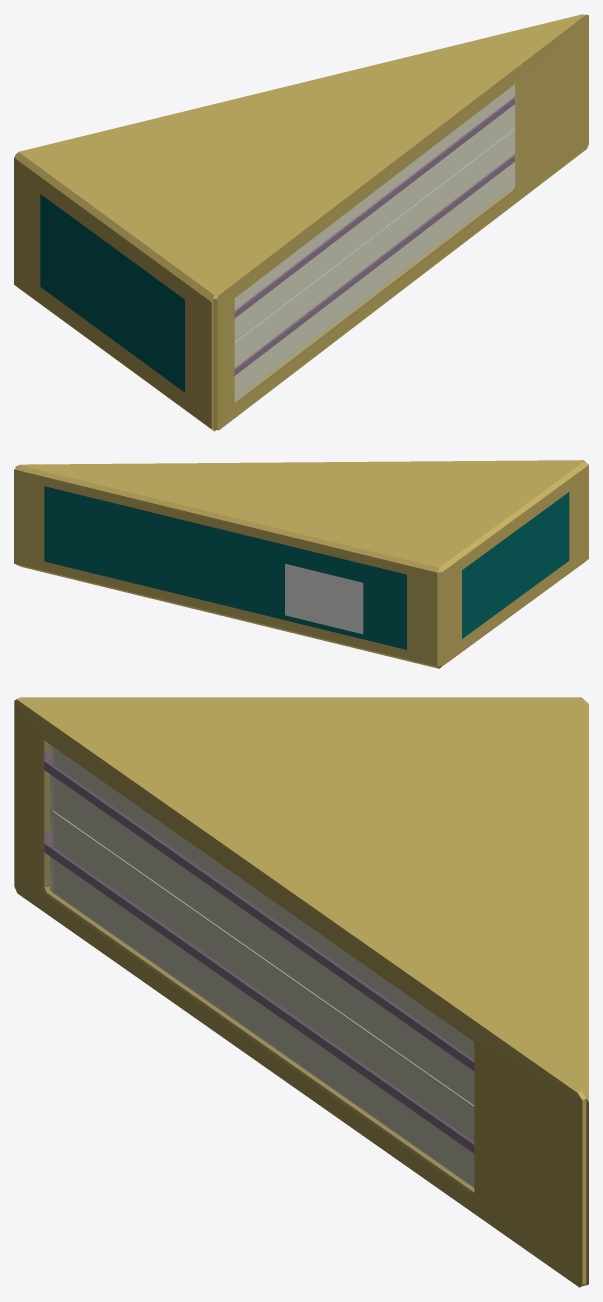
File: Sandwich Boxed Closed.fbx
3 renders of one model, top to bottom at view 1: azimuth 30°, elevation 25°; view 2: azimuth 150°, elevation 25°; view 3: azimuth 270°, elevation 25°, orthographic. The views are drawn at different scales.
Visible parts, largest first — view 1: pCube7, pCube9, pCube8; view 2: pCube7; view 3: pCube7, pCube9, pCube8.
Boxes of the visible parts, bbox=[...] form: pCube7: bbox=[14, 14, 588, 431]; pCube9: bbox=[234, 128, 514, 399]; pCube8: bbox=[234, 84, 514, 341]; pCube7: bbox=[14, 460, 588, 668]; pCube7: bbox=[14, 697, 588, 1287]; pCube9: bbox=[44, 808, 474, 1187]; pCube8: bbox=[44, 744, 474, 1105].
Bounding box in the file's own units: 16.74 × 3.79 × 10.12.
